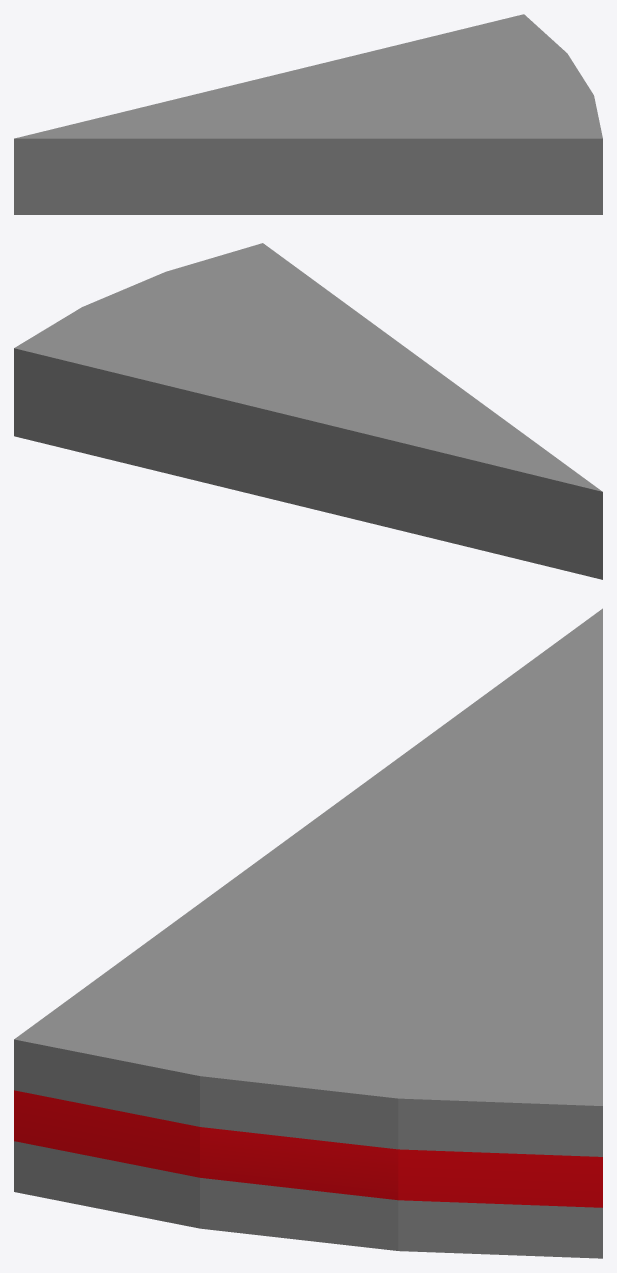
File: SliceNew.FBX
The picture shows the model from 3 angles, top to bottom: view 1: azimuth 30°, elevation 25°; view 2: azimuth 150°, elevation 25°; view 3: azimuth 270°, elevation 25°; orthographic projection. The views are drawn at different scales.
Visible parts, largest first — view 1: polySurface1; view 2: polySurface1; view 3: polySurface1.
Part boxes in pixels (box(x1,y1,x2,y2)): polySurface1: box(14, 14, 602, 214); polySurface1: box(14, 243, 602, 579); polySurface1: box(14, 608, 602, 1258).
Bounding box in the file's own units: 28 × 4 × 14.
